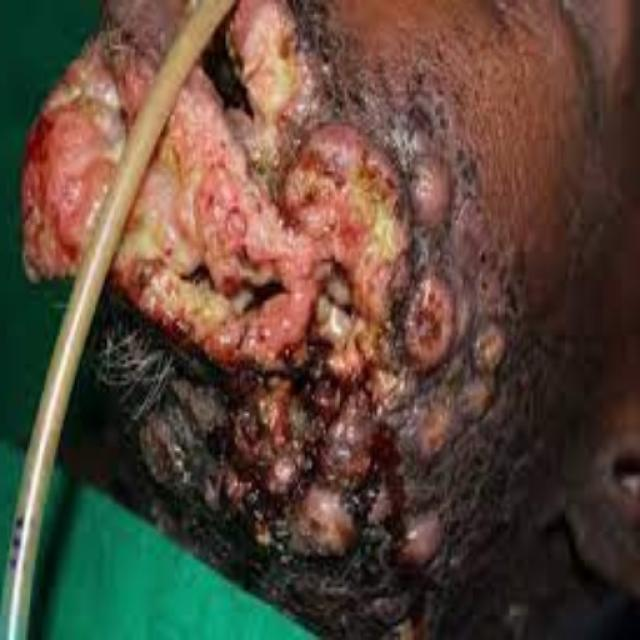cancer-detection: (114, 3, 512, 599), (20, 15, 161, 281)
processing_area: (109, 1, 538, 639), (4, 0, 197, 288)
